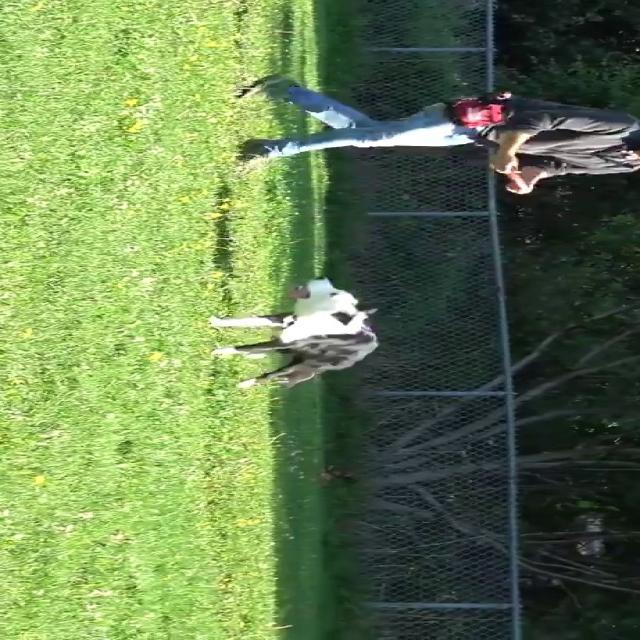Unleashed_Dog: (246, 75, 640, 219)
